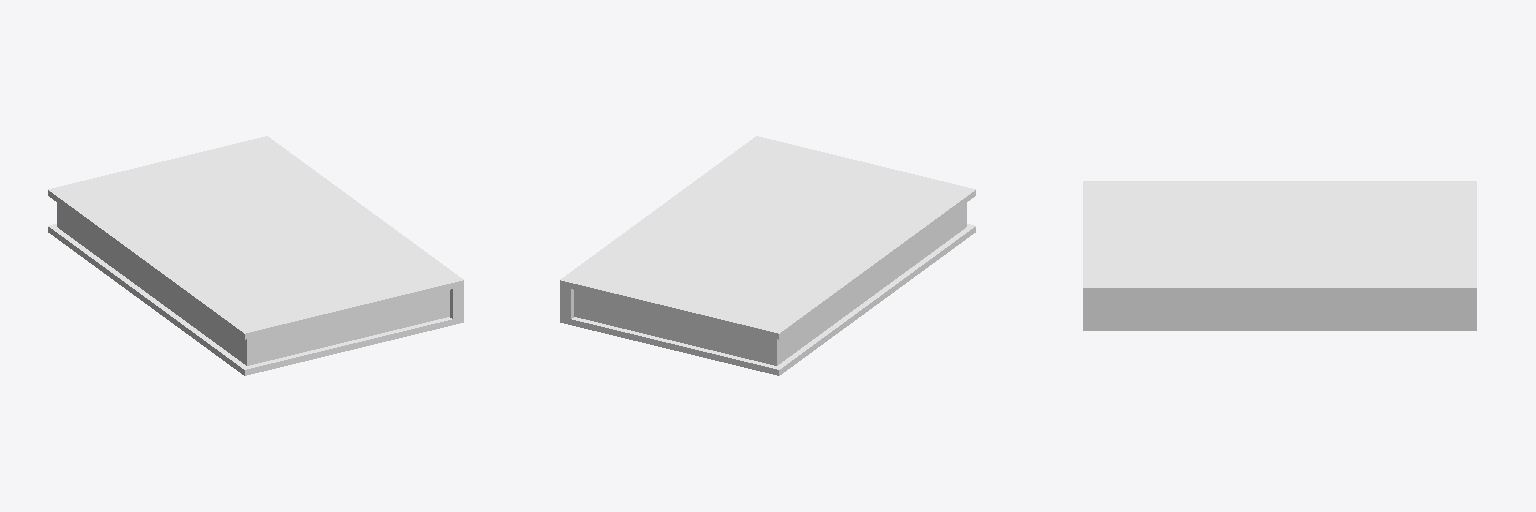
File: MuBook.obj
3 renders of one model, left to right at view 1: azimuth 30°, elevation 25°; view 2: azimuth 150°, elevation 25°; view 3: azimuth 270°, elevation 25°, orthographic.
Visible parts, largest first — view 1: object 1; view 2: object 1; view 3: object 1.
Part boxes in pixels (bbox=[...]): object 1: bbox=[48, 136, 463, 375]; object 1: bbox=[560, 136, 975, 375]; object 1: bbox=[1083, 181, 1476, 330].
Bounding box in the file's own units: 3.8 × 0.7 × 5.9.